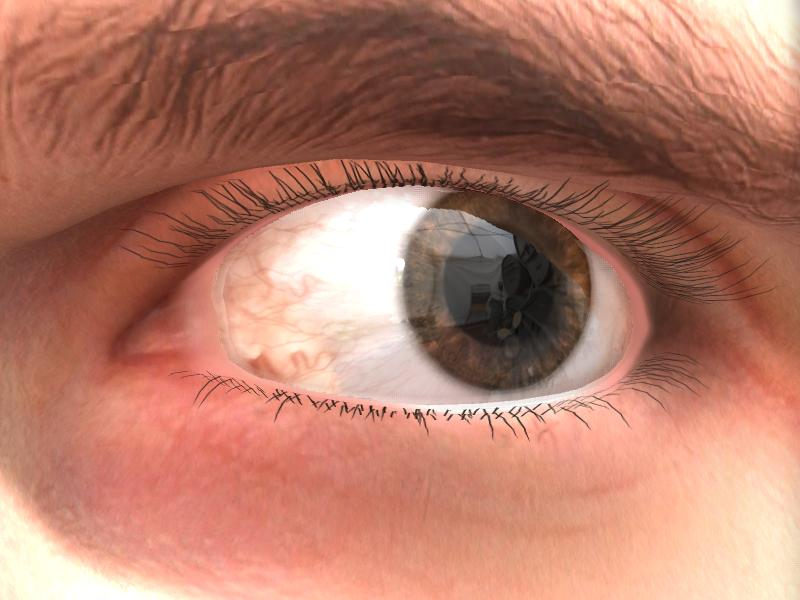eye: (399, 188, 594, 393)
